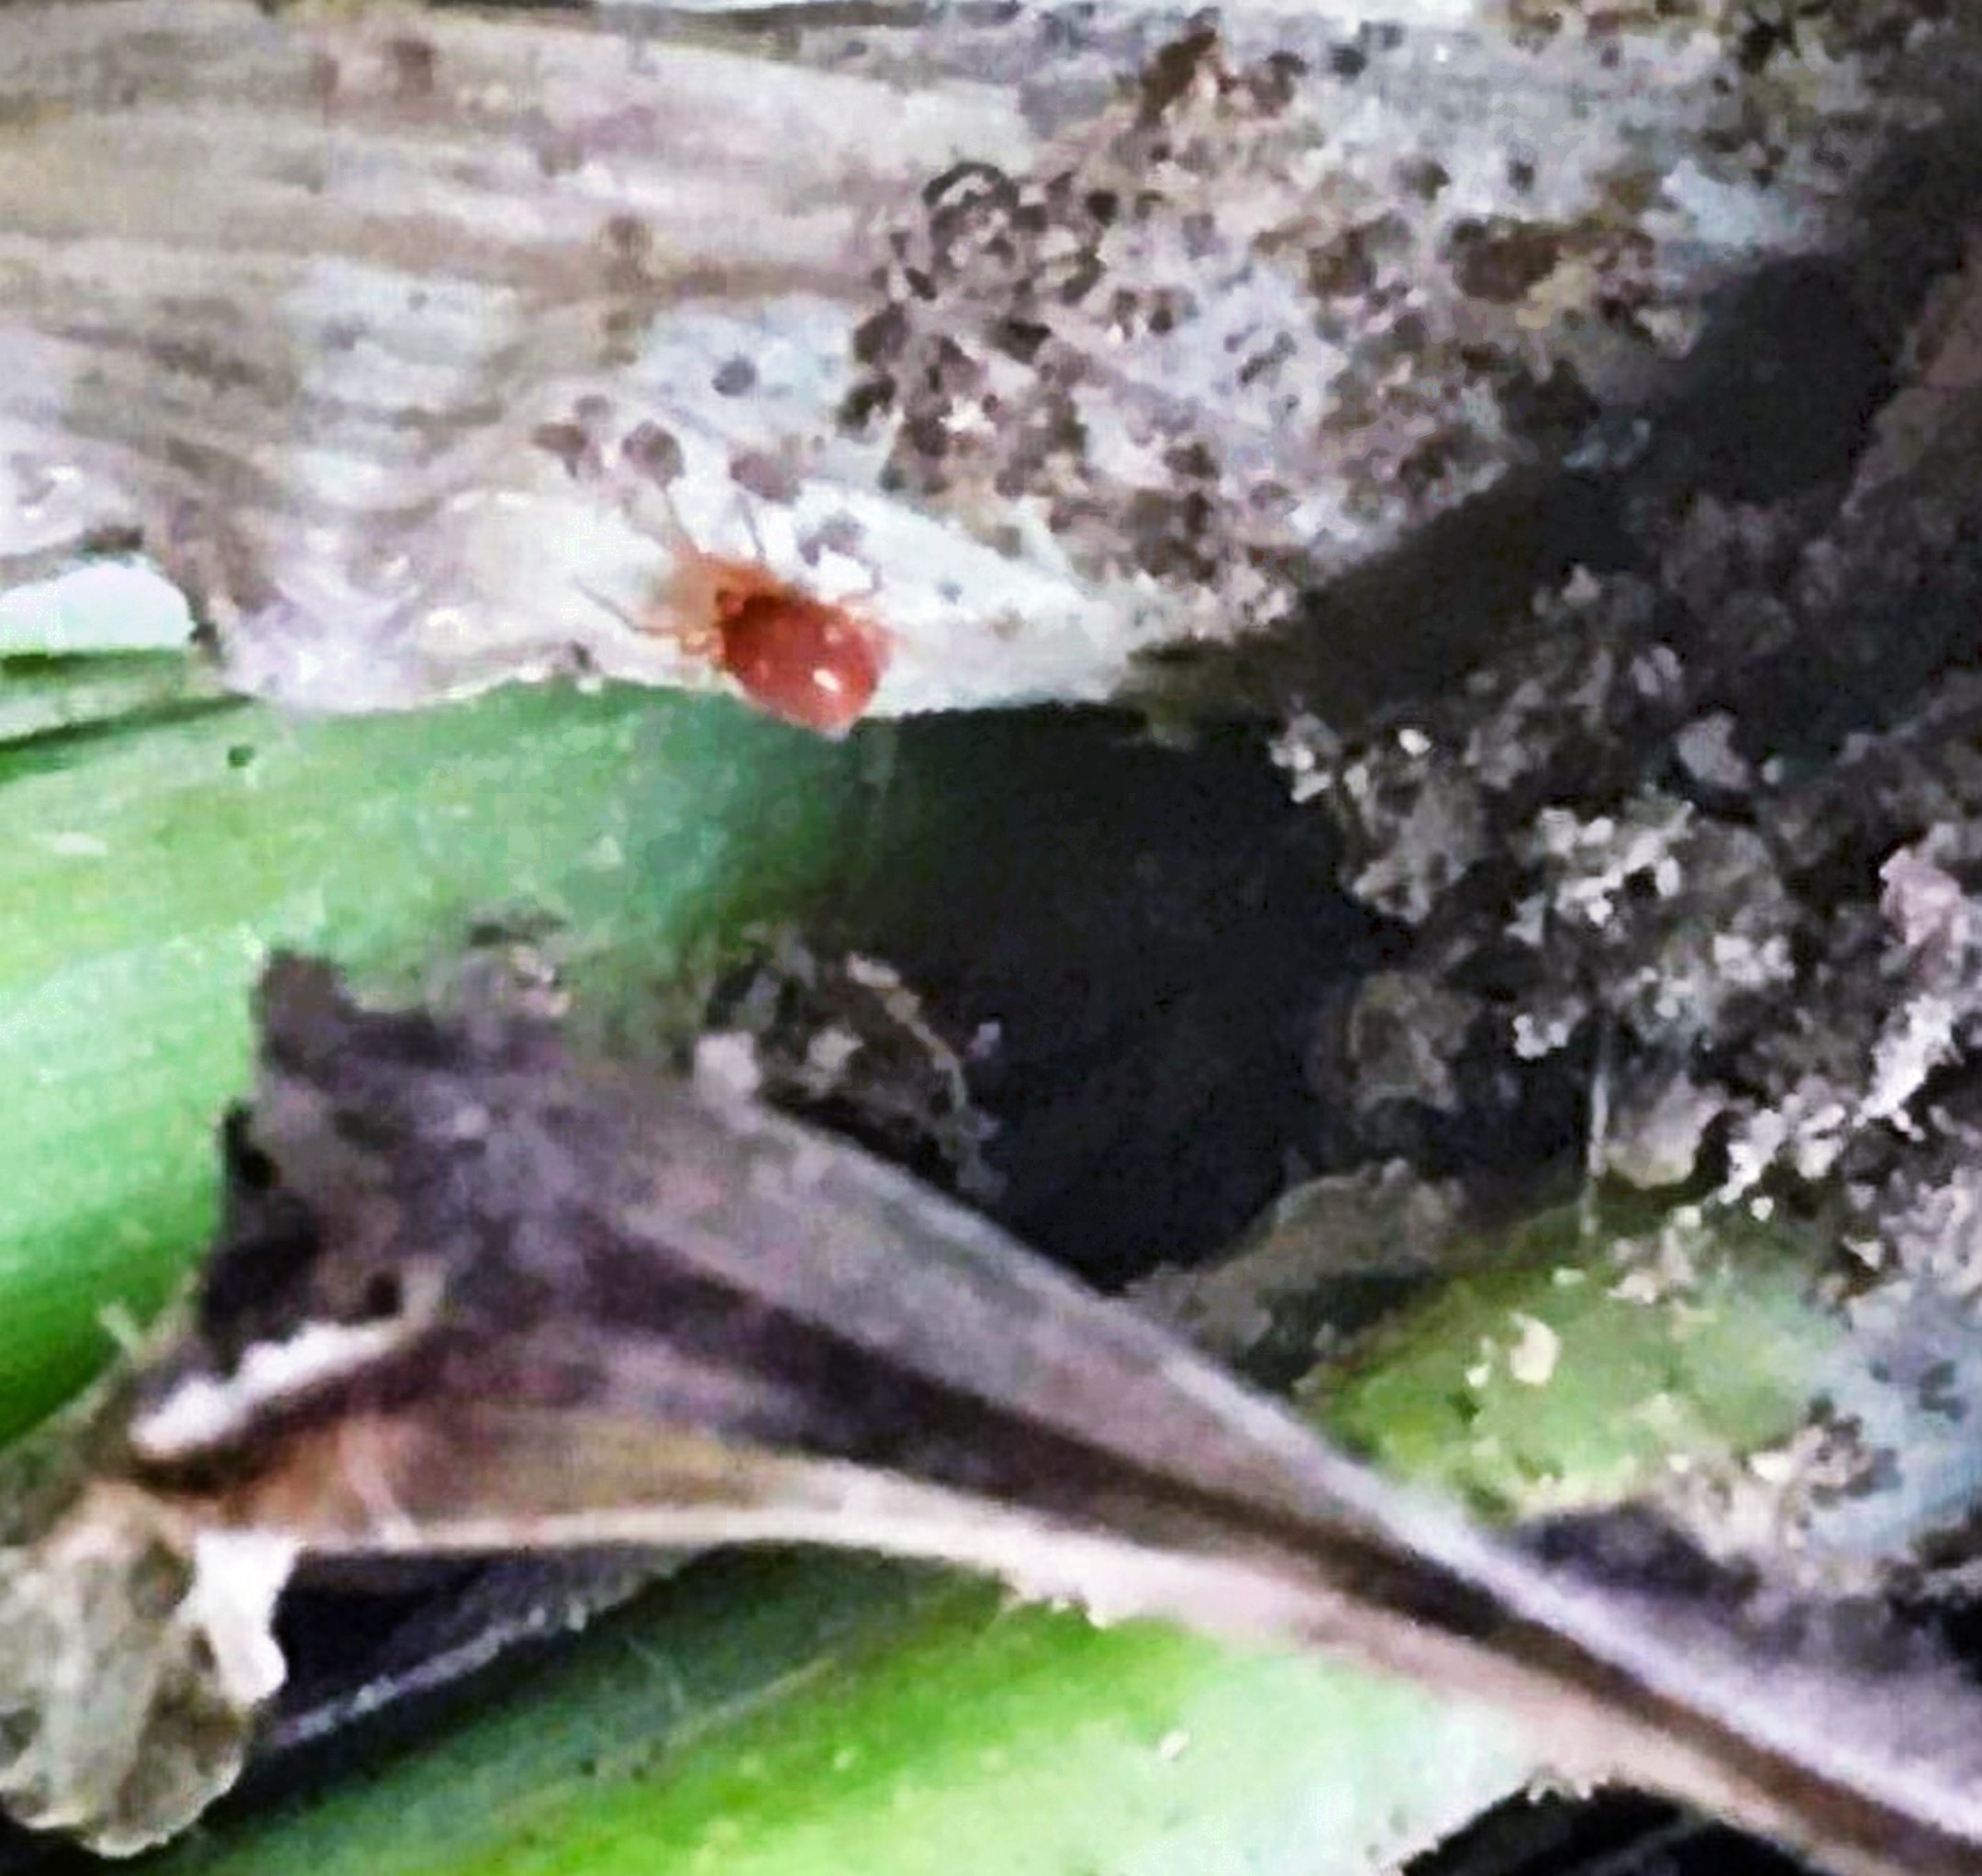Wheat Red Spider: (571, 471, 912, 742)
